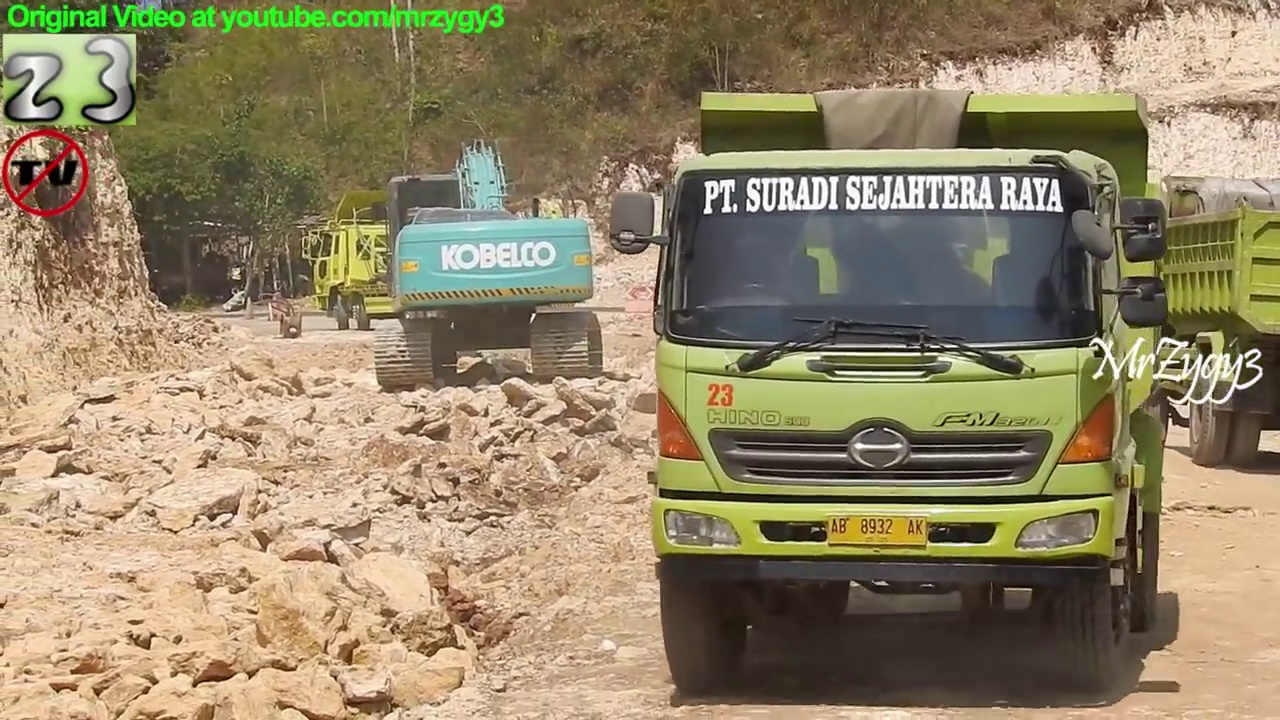excavator: (369, 134, 607, 389)
truck: (609, 85, 1178, 698), (1105, 171, 1280, 472), (291, 185, 600, 334)
